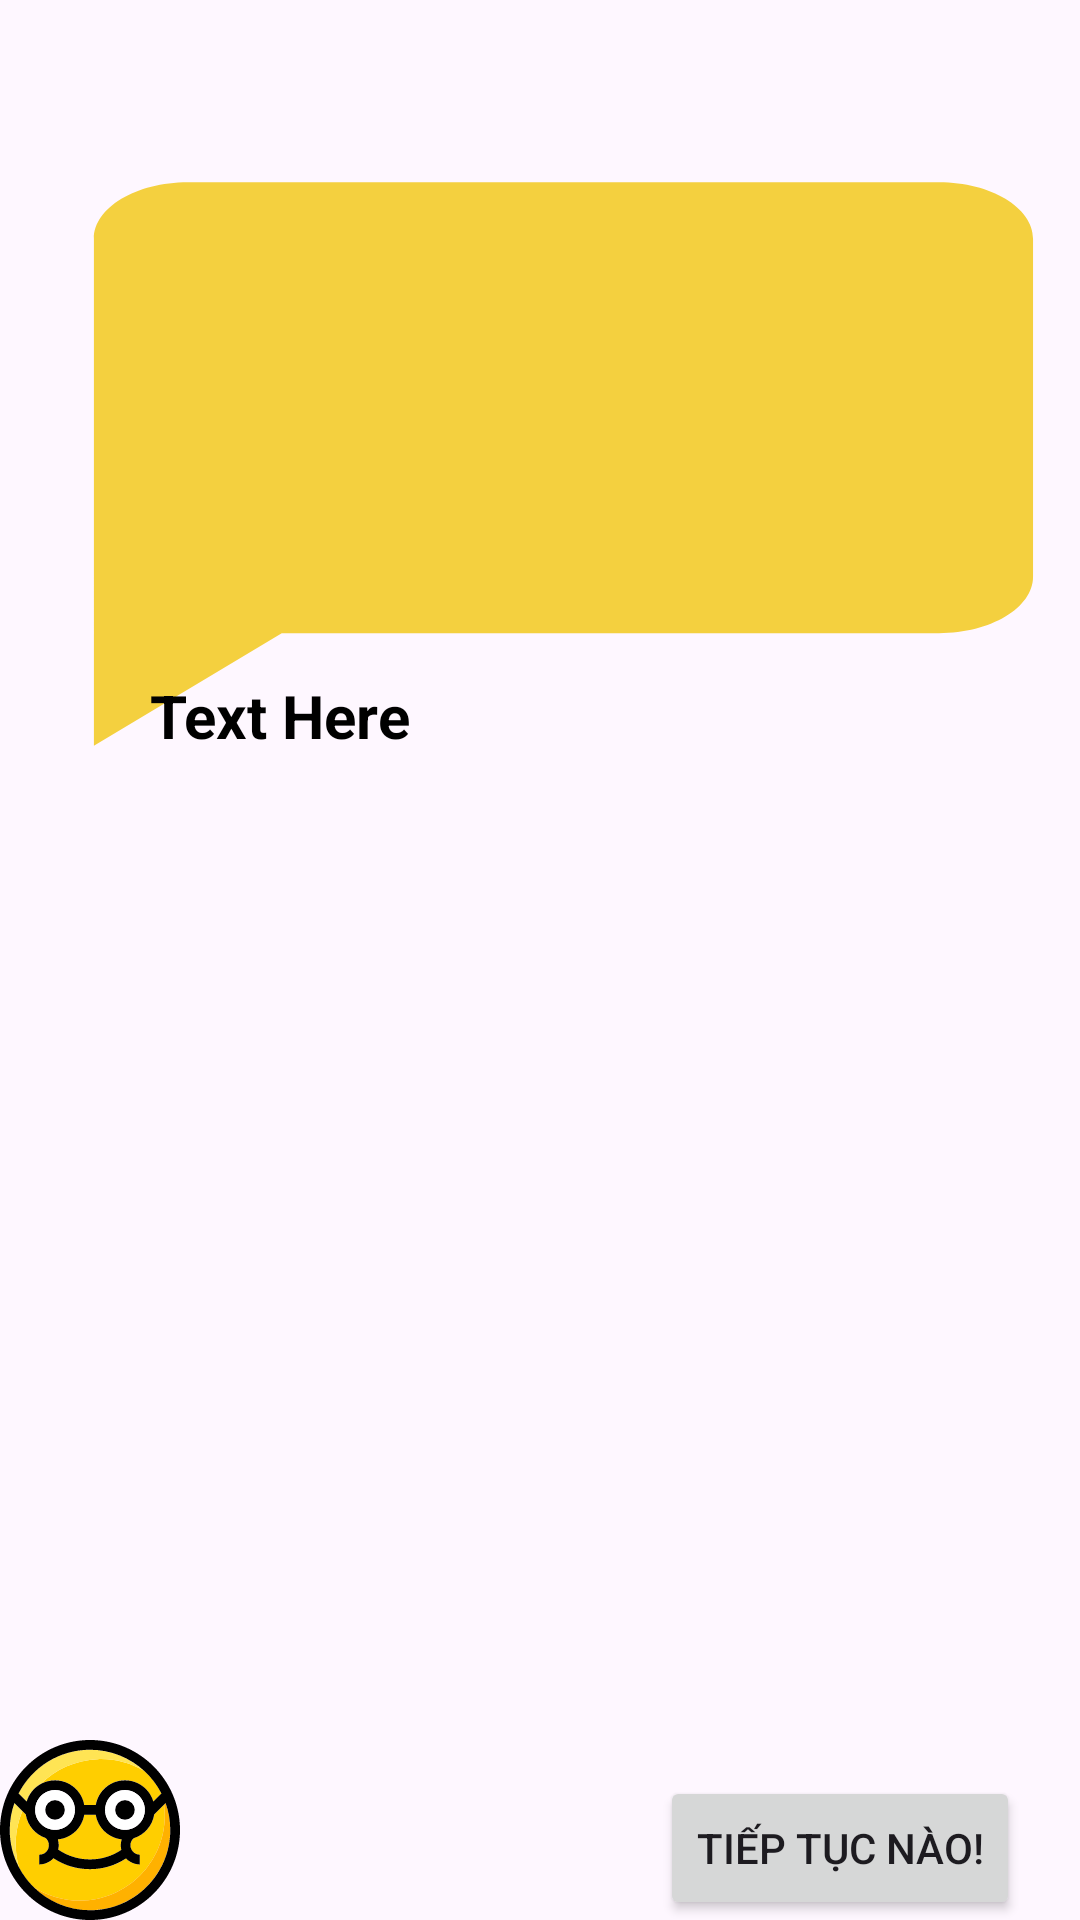

Named icons in this screenshot (1080*1920) and their centers, point (x, y):
nerd: point (90, 1830)
